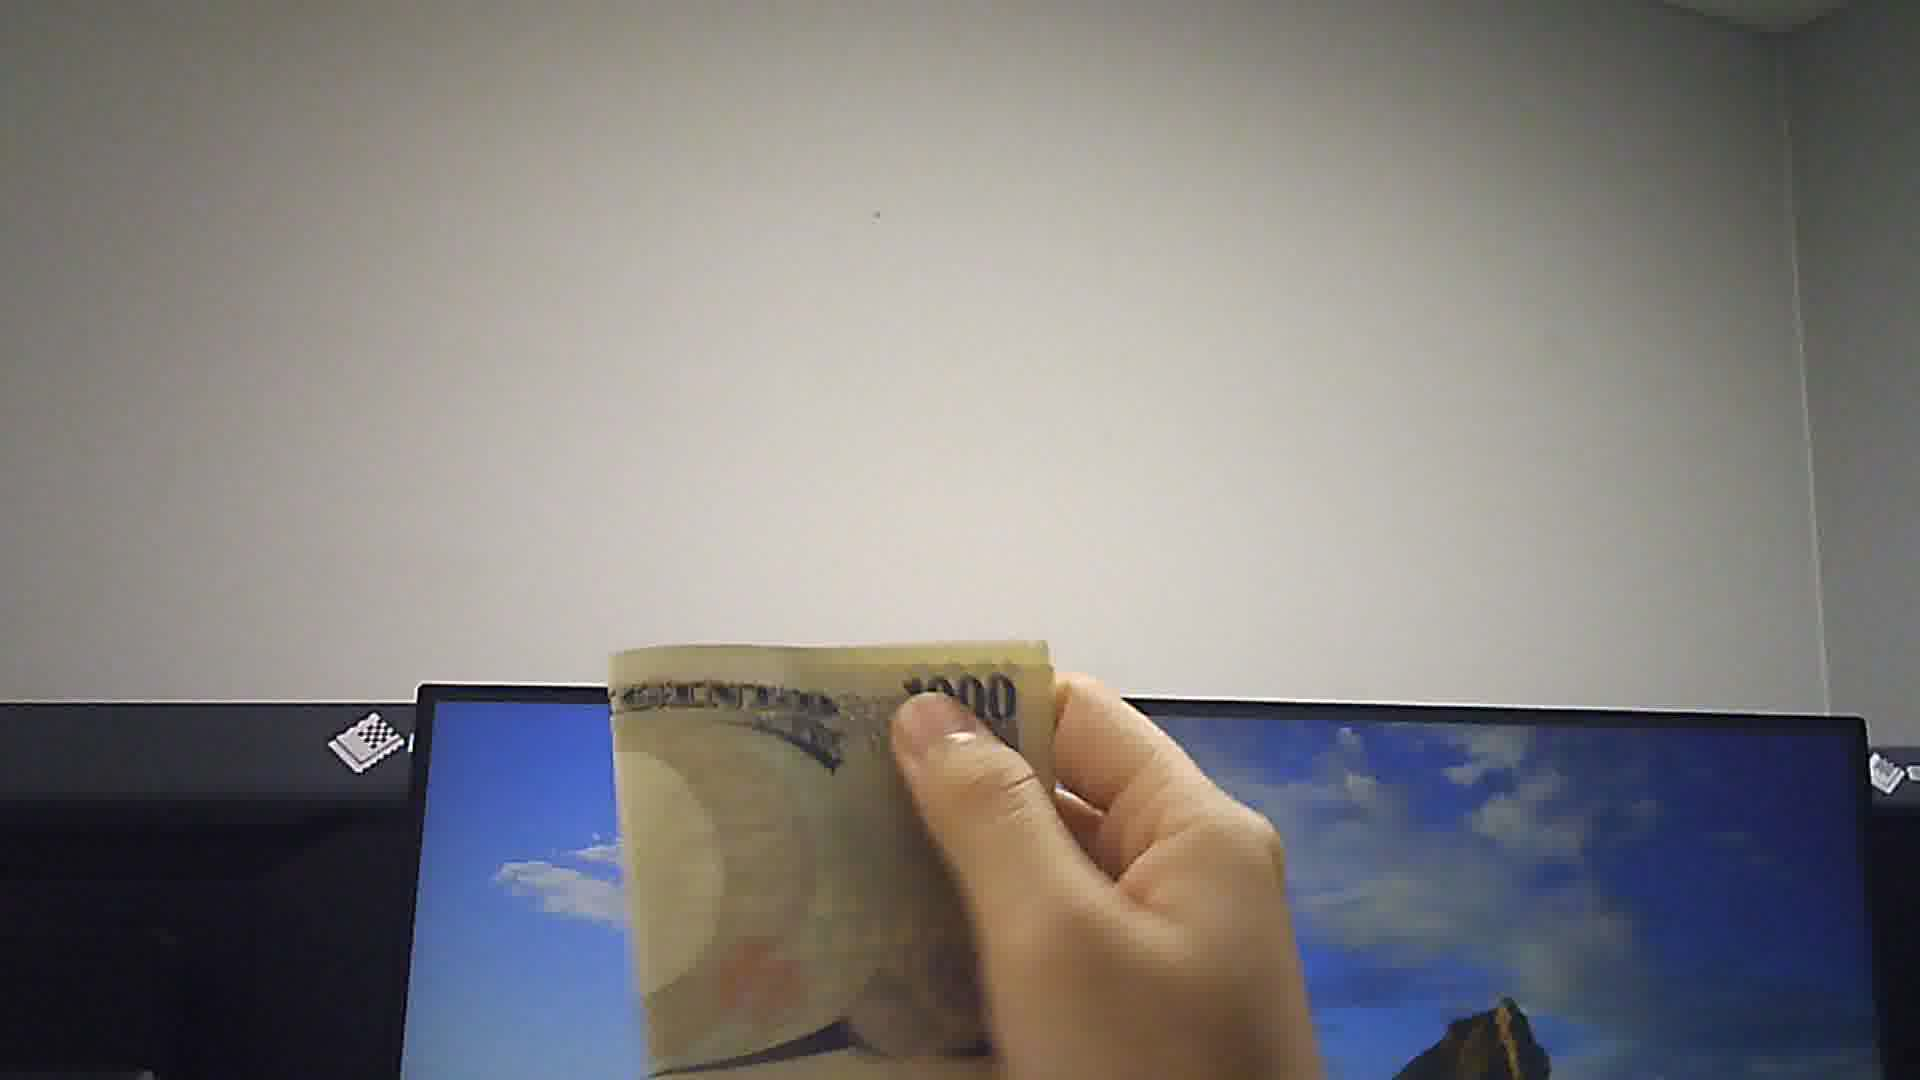1,000 Yen: (592, 628, 1068, 1079)
